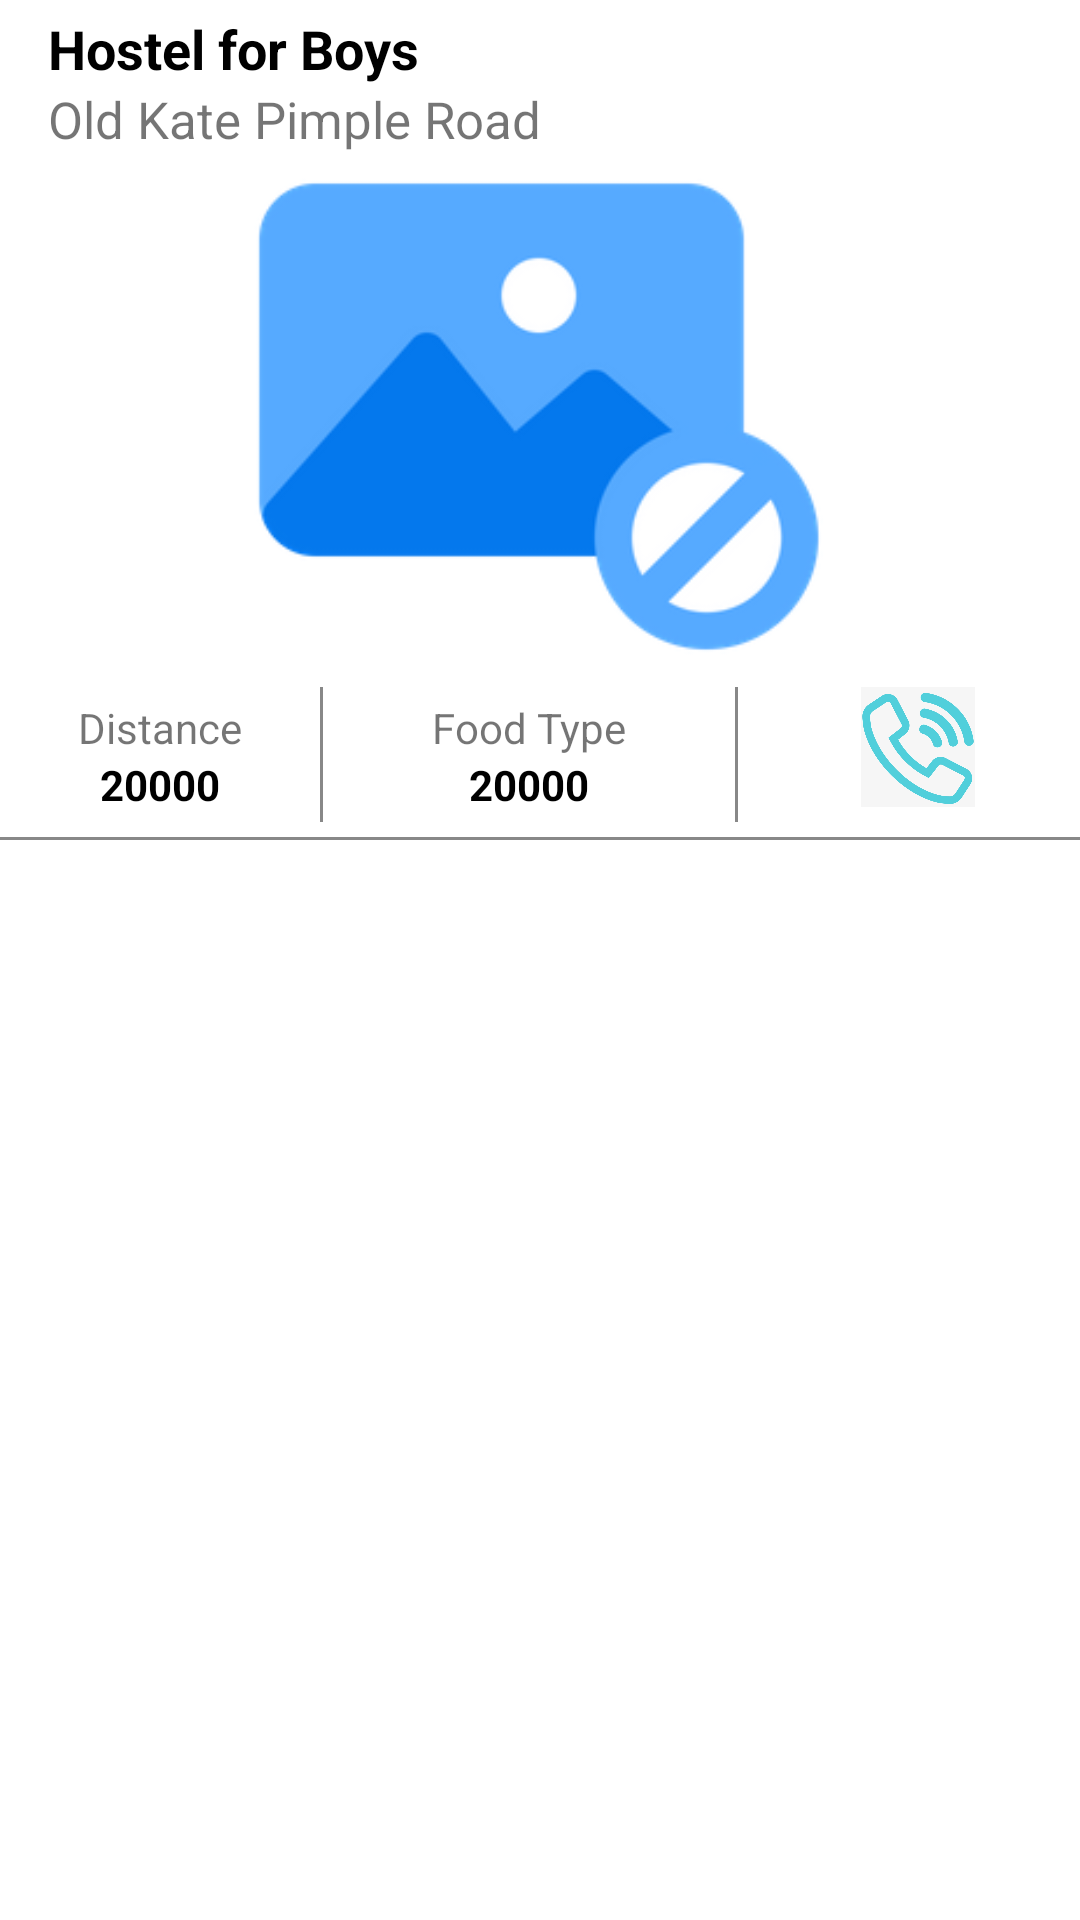

Icon bounding boxes for this 1080 x 1920 phone screenshot, format (x1, y1, x2, y2):
call: (861, 687, 975, 807)
